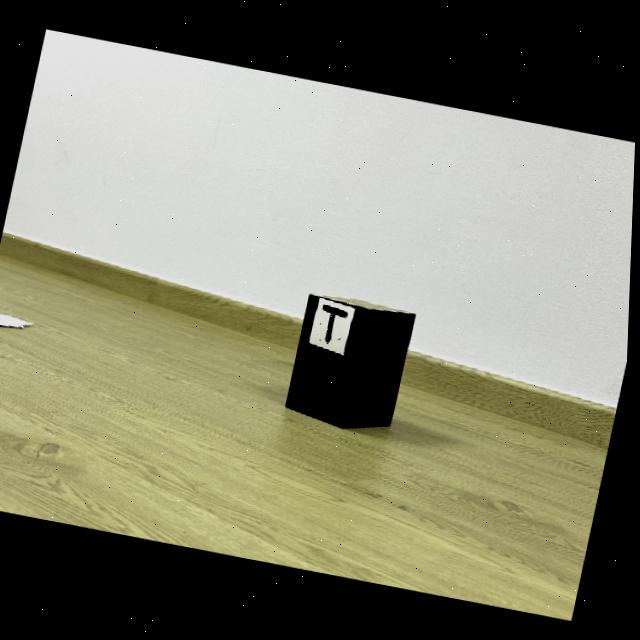T: (324, 304, 350, 342)
